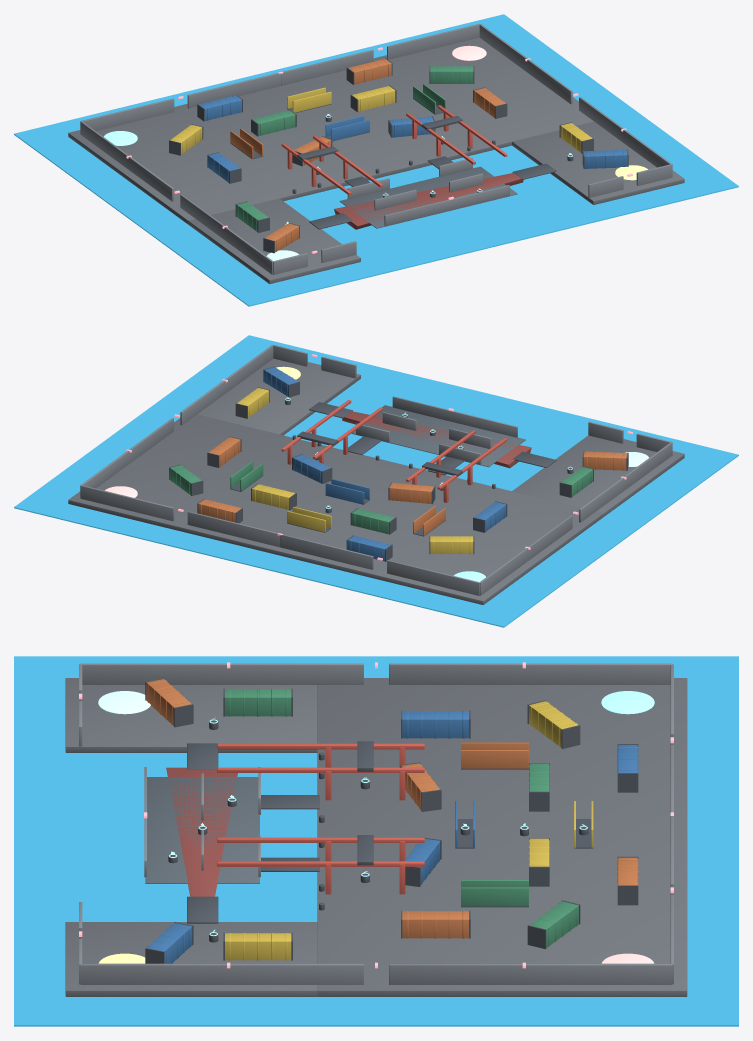
Rendered from Map8_Gece_Konteyner_Limani_5v5v5v5.glb.
3 views of the same model, one above another, from view 1: azimuth 30°, elevation 25°; view 2: azimuth 150°, elevation 25°; view 3: azimuth 270°, elevation 25° (orthographic). The views are drawn at different scales.
Visible parts, largest first — view 1: Harbor_DeepWater_Basin, Pier_North_ContainerYard, Pier_East_PierArm, Pier_West_PierArm, CargoFreighter_MainDeck, CargoFreighter_Hull, CargoFreighter_CoamingWall_3, PortPerimeterWall_9, PortPerimeterWall_12, PortPerimeterWall_8, PortPerimeterWall_6, PortPerimeterWall_11 (+22 smaller); view 2: Harbor_DeepWater_Basin, Pier_North_ContainerYard, Pier_East_PierArm, Pier_West_PierArm, CargoFreighter_MainDeck, CargoFreighter_CoamingWall_3, PortPerimeterWall_8, PortPerimeterWall_11, PortPerimeterWall_9, PortPerimeterWall_6, PortPerimeterWall_3, PortPerimeterWall_2 (+21 smaller); view 3: Harbor_DeepWater_Basin, Pier_North_ContainerYard, Pier_West_PierArm, Pier_East_PierArm, CargoFreighter_MainDeck, PortPerimeterWall_11, PortPerimeterWall_12, PortPerimeterWall_9, PortPerimeterWall_8, CargoFreighter_Hull, ShippingContainer_10_Body, ShippingContainer_9_Body (+19 smaller).
Part boxes in pixels (bbox=[...]): Harbor_DeepWater_Basin: bbox=[14, 14, 738, 306]; Pier_North_ContainerYard: bbox=[68, 37, 593, 223]; Pier_East_PierArm: bbox=[512, 121, 684, 204]; Pier_West_PierArm: bbox=[188, 198, 360, 283]; CargoFreighter_MainDeck: bbox=[339, 166, 517, 228]; CargoFreighter_Hull: bbox=[334, 173, 523, 229]; CargoFreighter_CoamingWall_3: bbox=[384, 185, 509, 226]; PortPerimeterWall_9: bbox=[80, 121, 173, 201]; PortPerimeterWall_12: bbox=[479, 24, 572, 104]; PortPerimeterWall_8: bbox=[180, 194, 273, 274]; PortPerimeterWall_6: bbox=[387, 24, 479, 59]; PortPerimeterWall_11: bbox=[579, 97, 672, 176]; Harbor_DeepWater_Basin: bbox=[14, 335, 738, 627]; Pier_North_ContainerYard: bbox=[68, 414, 603, 604]; Pier_East_PierArm: bbox=[197, 358, 360, 435]; Pier_West_PierArm: bbox=[512, 435, 684, 516]; CargoFreighter_MainDeck: bbox=[351, 405, 525, 467]; CargoFreighter_CoamingWall_3: bbox=[392, 396, 517, 437]; PortPerimeterWall_8: bbox=[579, 442, 672, 522]; PortPerimeterWall_11: bbox=[180, 345, 273, 425]; PortPerimeterWall_9: bbox=[479, 515, 572, 595]; PortPerimeterWall_6: bbox=[80, 485, 174, 521]; PortPerimeterWall_3: bbox=[280, 534, 373, 569]; PortPerimeterWall_2: bbox=[387, 560, 479, 595]; Harbor_DeepWater_Basin: bbox=[14, 656, 738, 1026]; Pier_North_ContainerYard: bbox=[317, 678, 687, 996]; Pier_West_PierArm: bbox=[65, 678, 317, 752]; Pier_East_PierArm: bbox=[65, 922, 317, 996]; CargoFreighter_MainDeck: bbox=[145, 777, 259, 883]; PortPerimeterWall_11: bbox=[80, 963, 363, 984]; PortPerimeterWall_12: bbox=[389, 963, 672, 984]; PortPerimeterWall_9: bbox=[389, 663, 671, 684]; PortPerimeterWall_8: bbox=[81, 663, 363, 684]; CargoFreighter_Hull: bbox=[166, 767, 237, 896]; ShippingContainer_10_Body: bbox=[402, 911, 468, 938]; ShippingContainer_9_Body: bbox=[402, 711, 468, 738].
Bounding box in the file's own units: 118 × 6.1 × 98.
